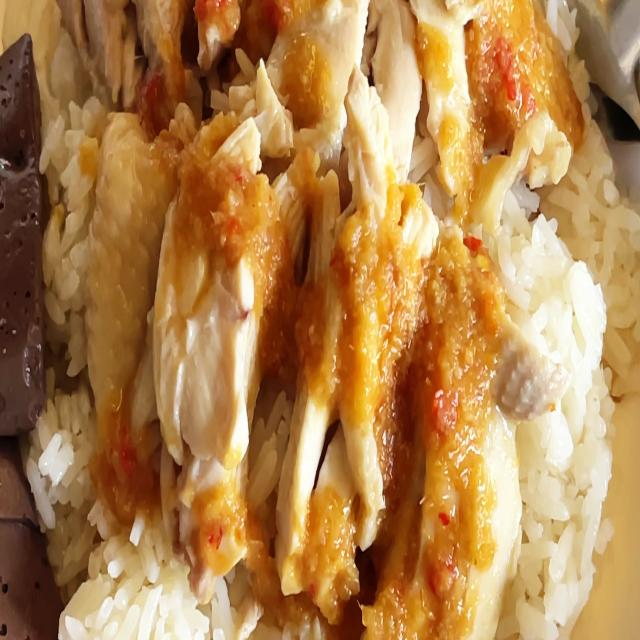boiled_chicken: (93, 2, 540, 547)
boiled_chicken_blood_jelly: (0, 36, 52, 442), (0, 460, 54, 639)
chicken_rice: (0, 0, 640, 640)
